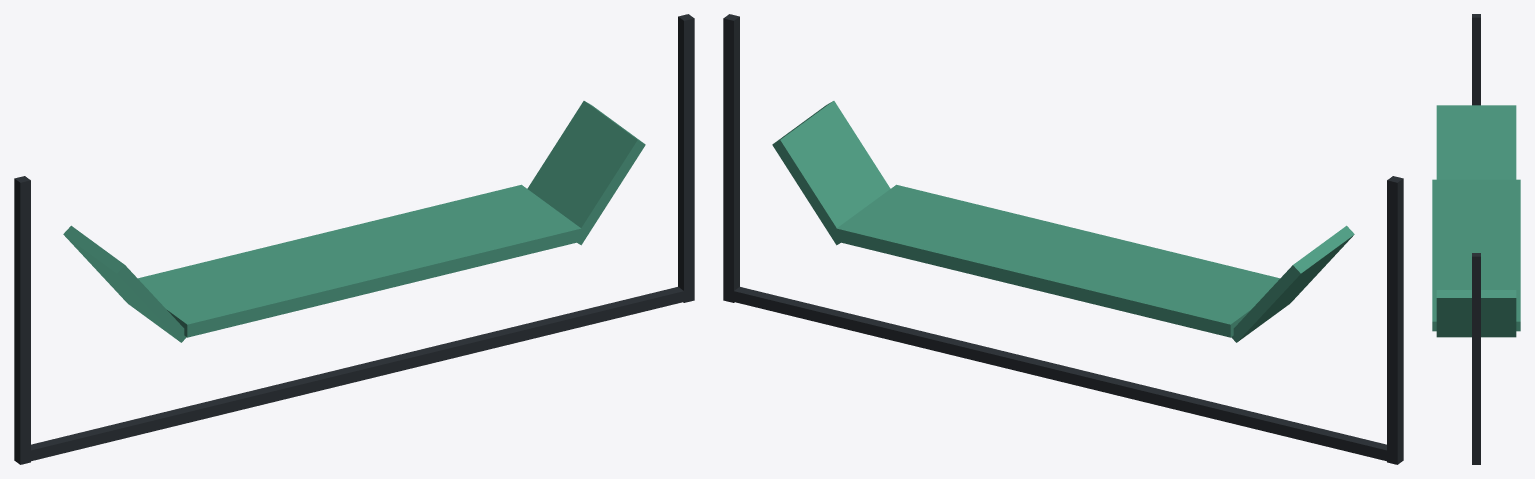
The model's file is patio_hammock_stand.glb.
3 views of the same model, side by side, from view 1: azimuth 30°, elevation 25°; view 2: azimuth 150°, elevation 25°; view 3: azimuth 270°, elevation 25° (orthographic). The views are drawn at different scales.
Parts seen in each view (by area): view 1: hammock_stand; view 2: hammock_stand; view 3: hammock_stand.
Part boxes in pixels (<box>): hammock_stand: <box>14,14,694,464</box>; hammock_stand: <box>723,14,1403,464</box>; hammock_stand: <box>1432,14,1520,464</box>.
Bounding box in the file's own units: 3.25 × 1.3 × 0.5.
